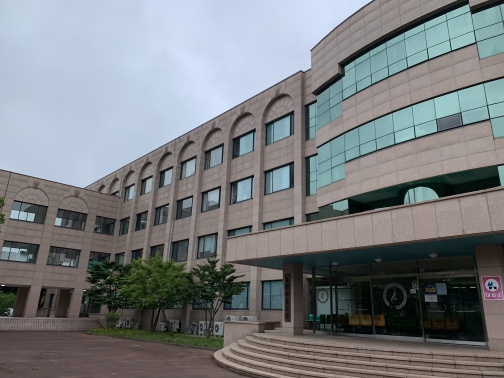Natural Science2: (92, 4, 503, 376), (230, 9, 503, 376)
